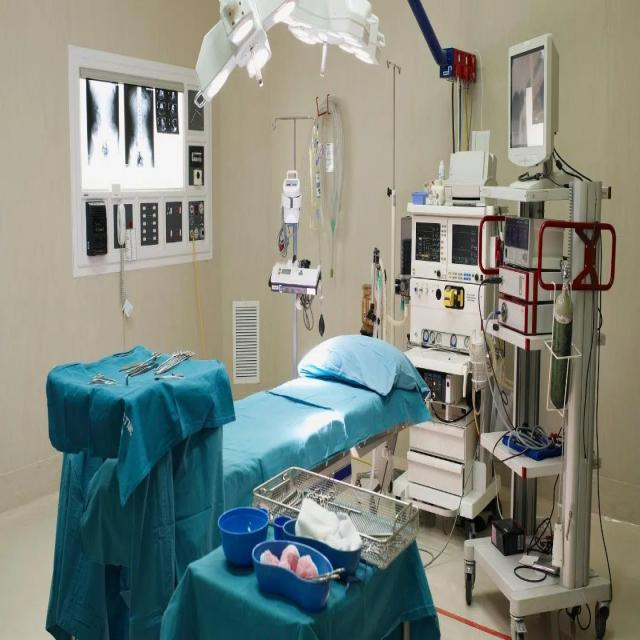cardiac_monitor: (67, 41, 207, 290)
lightings: (290, 12, 385, 75), (214, 23, 275, 111)
patient_bed: (112, 347, 422, 476)
ventilator: (487, 141, 616, 624)
